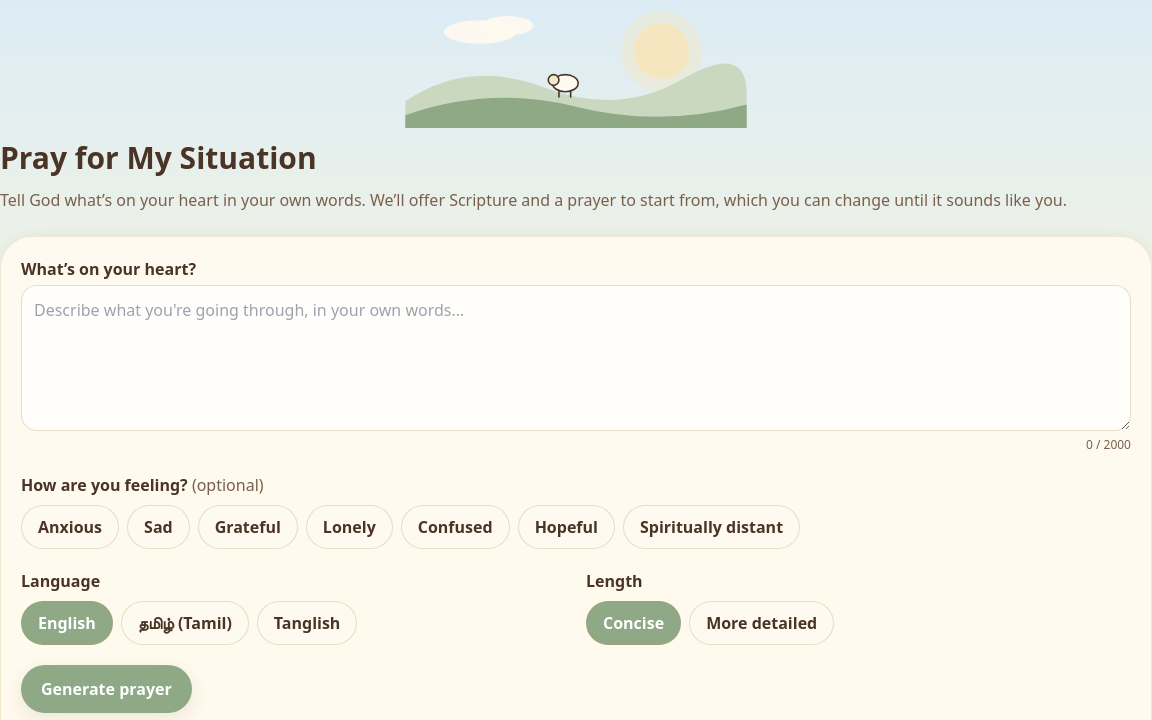
Scenario: API errors and missing credentials › our own rate limiter (HTTP 429): shows the wait time
The image size is (1152, 720).
Type "I am anxious about my exams and cannot sleep." into the text box labelled "What’s on your heart? 0 / 2000" at coordinates (576, 358), box [21,285,1131,431]
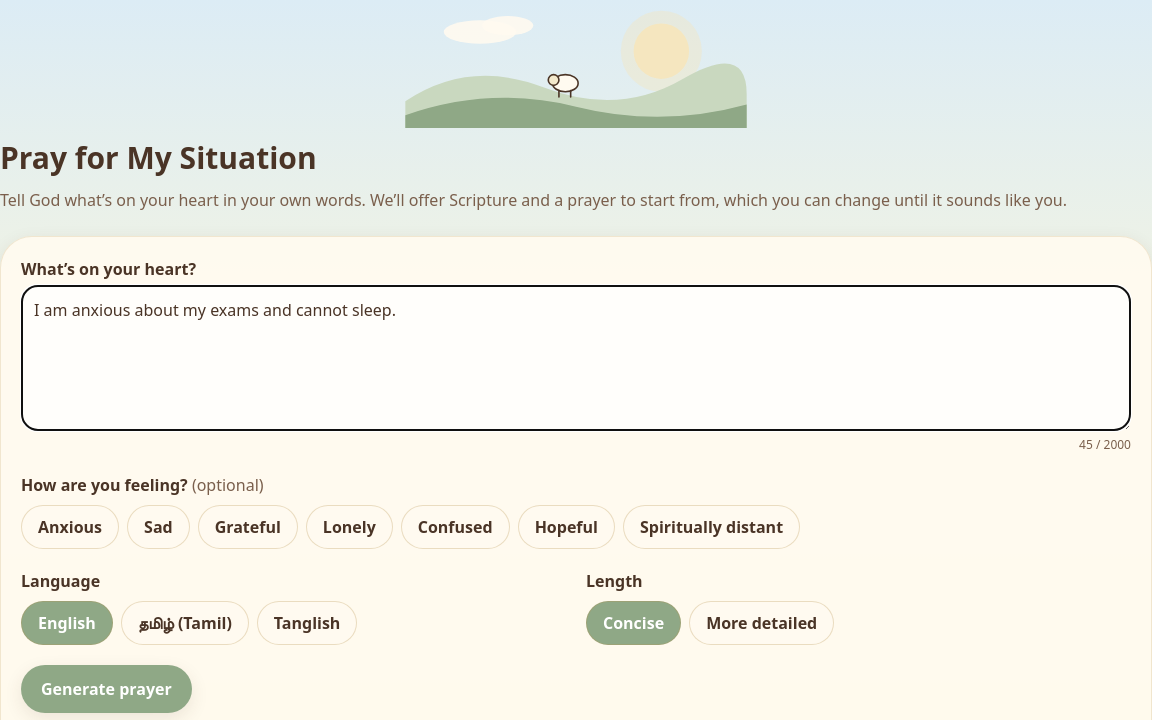
Click the button "Generate prayer" at coordinates (106, 689), box [21,665,192,713]
(page scrolled)
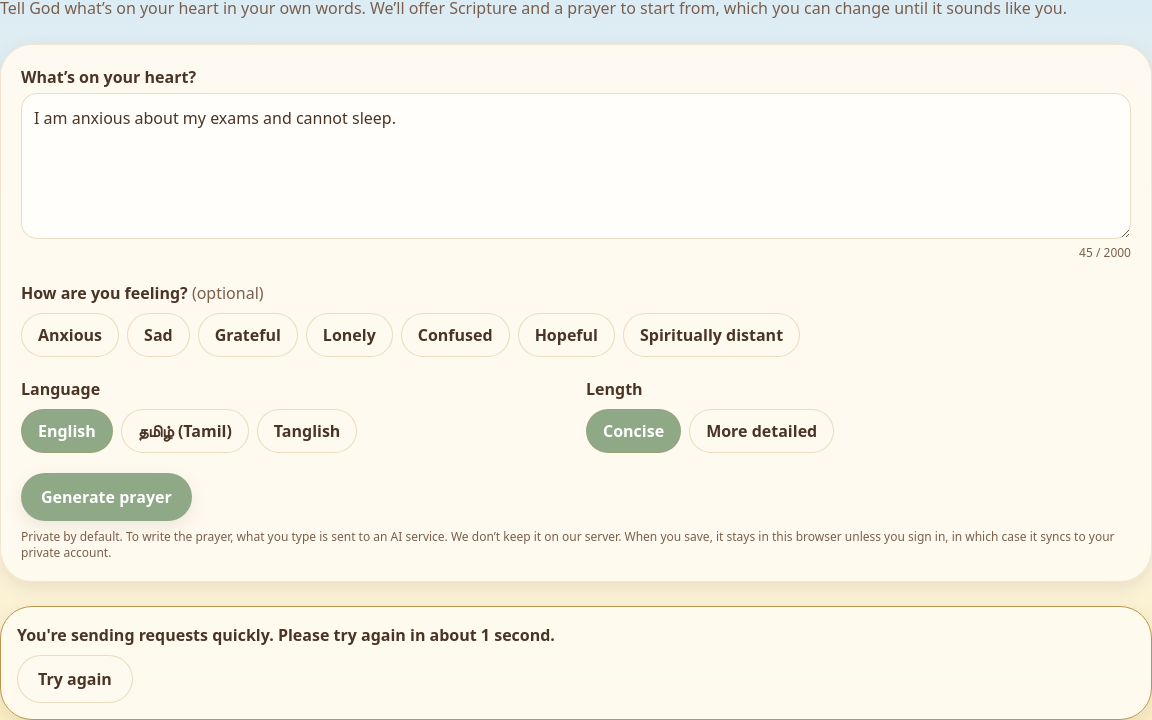
Expected: the message with test id "prayer-error" shows "sending requests quickly. Please try again in about 1 second.", [0,606,1151,719]
